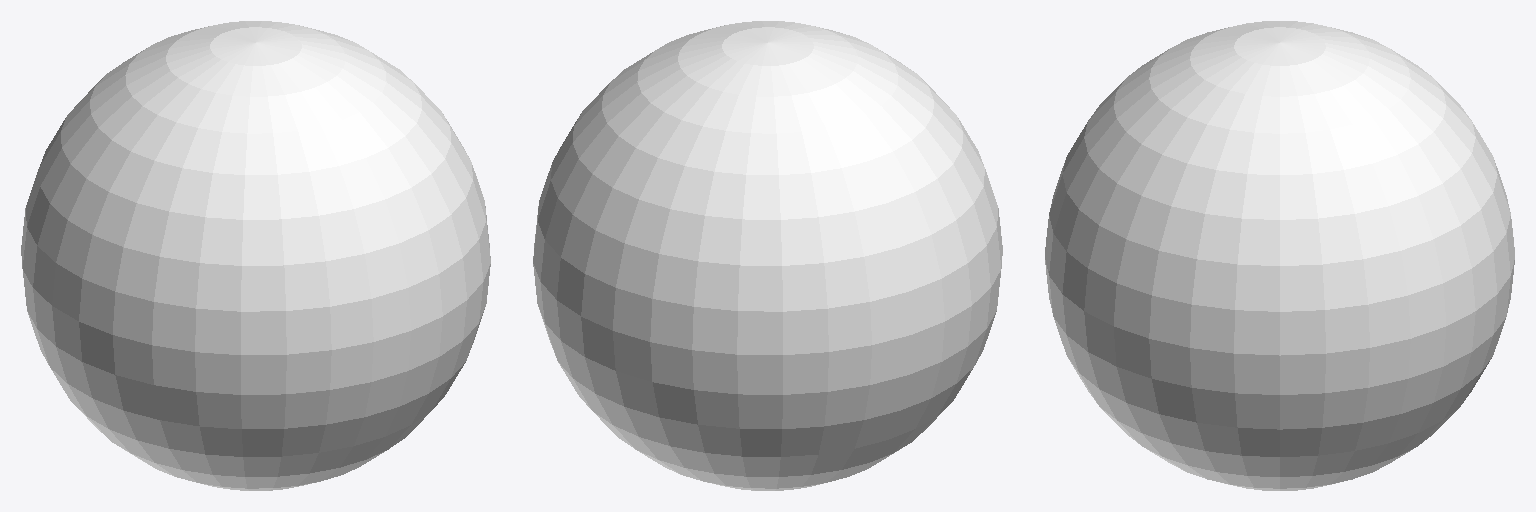
3 views of the same model, side by side, from view 1: azimuth 30°, elevation 25°; view 2: azimuth 150°, elevation 25°; view 3: azimuth 270°, elevation 25° (orthographic).
Visible parts, largest first — view 1: Bullet_球.001; view 2: Bullet_球.001; view 3: Bullet_球.001.
Part boxes in pixels (bbox=[...]): Bullet_球.001: bbox=[21, 21, 490, 490]; Bullet_球.001: bbox=[533, 21, 1002, 490]; Bullet_球.001: bbox=[1045, 21, 1514, 490].
Bounding box in the file's own units: 2 × 2 × 2.
1 materials, 1 textured.